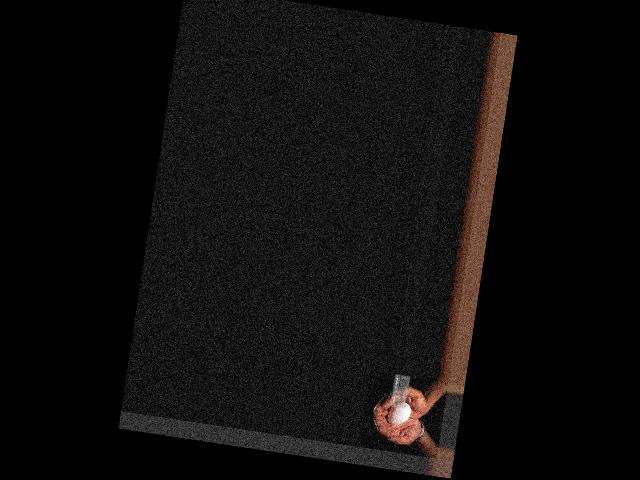egg: (385, 401, 411, 427)
